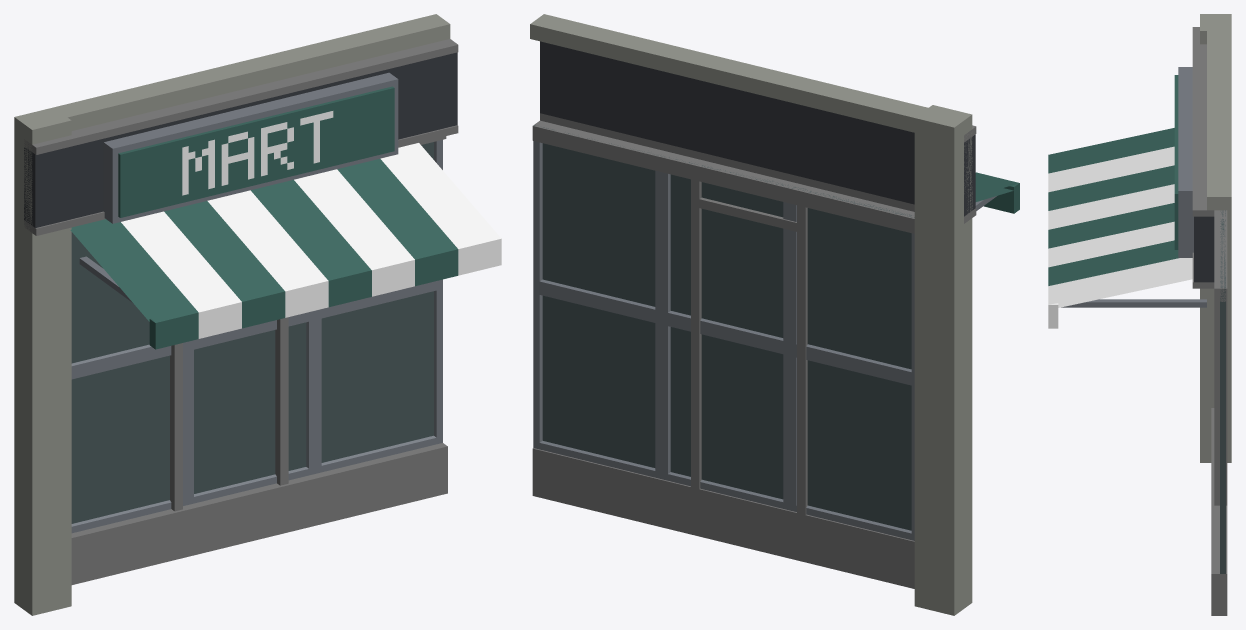
File: base-w1_close.fbx
The picture shows the model from 3 angles, left to right: view 1: azimuth 30°, elevation 25°; view 2: azimuth 150°, elevation 25°; view 3: azimuth 270°, elevation 25°; orthographic projection. The views are drawn at different scales.
Parts seen in each view (by area): view 1: a2006_base-w1.001; view 2: a2006_base-w1.001; view 3: a2006_base-w1.001.
Part boxes in pixels (x1,y1,x2,y2): a2006_base-w1.001: [14, 14, 501, 615]; a2006_base-w1.001: [530, 14, 1019, 615]; a2006_base-w1.001: [1048, 14, 1231, 615].
Bounding box in the file's own units: 3 × 3.3 × 1.27.
